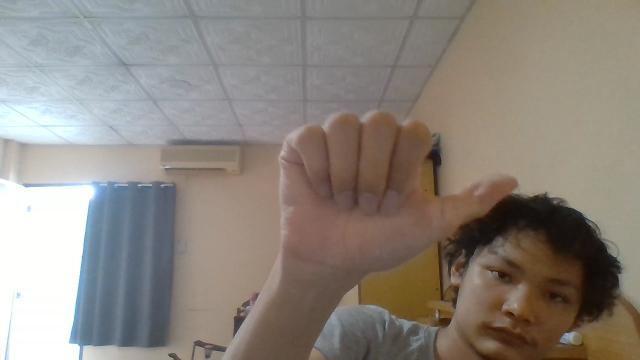left: (277, 109, 519, 283)
